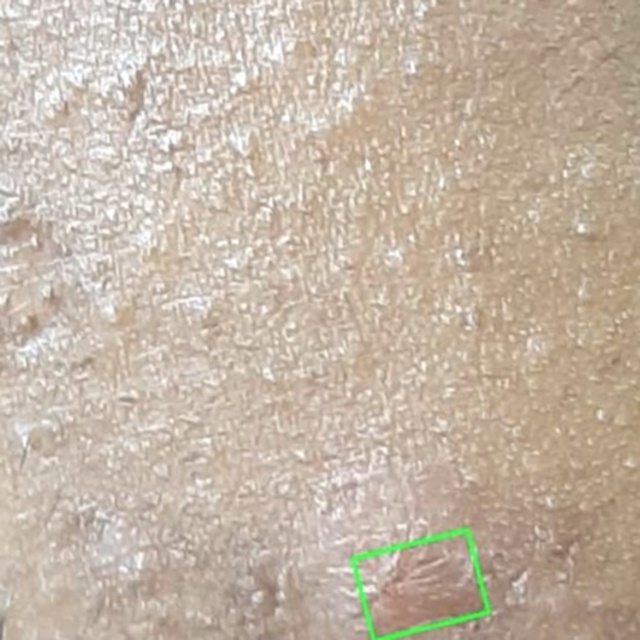Scabies: (353, 530, 489, 639)
